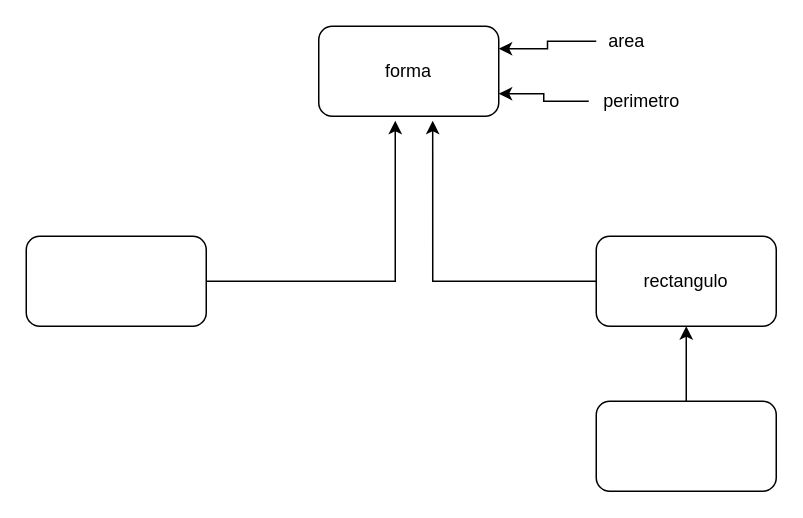
Image size: 803x518. Some labels were removed from this diagram. Each missing label, with the centre of its shape:
"circulo" belongs at point 115,280.
"cuadrado" belongs at point 685,445.
